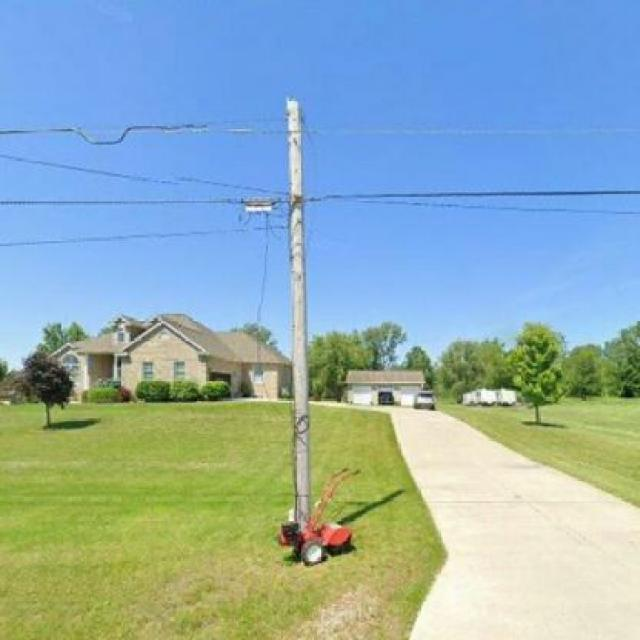pole: (245, 98, 362, 516)
